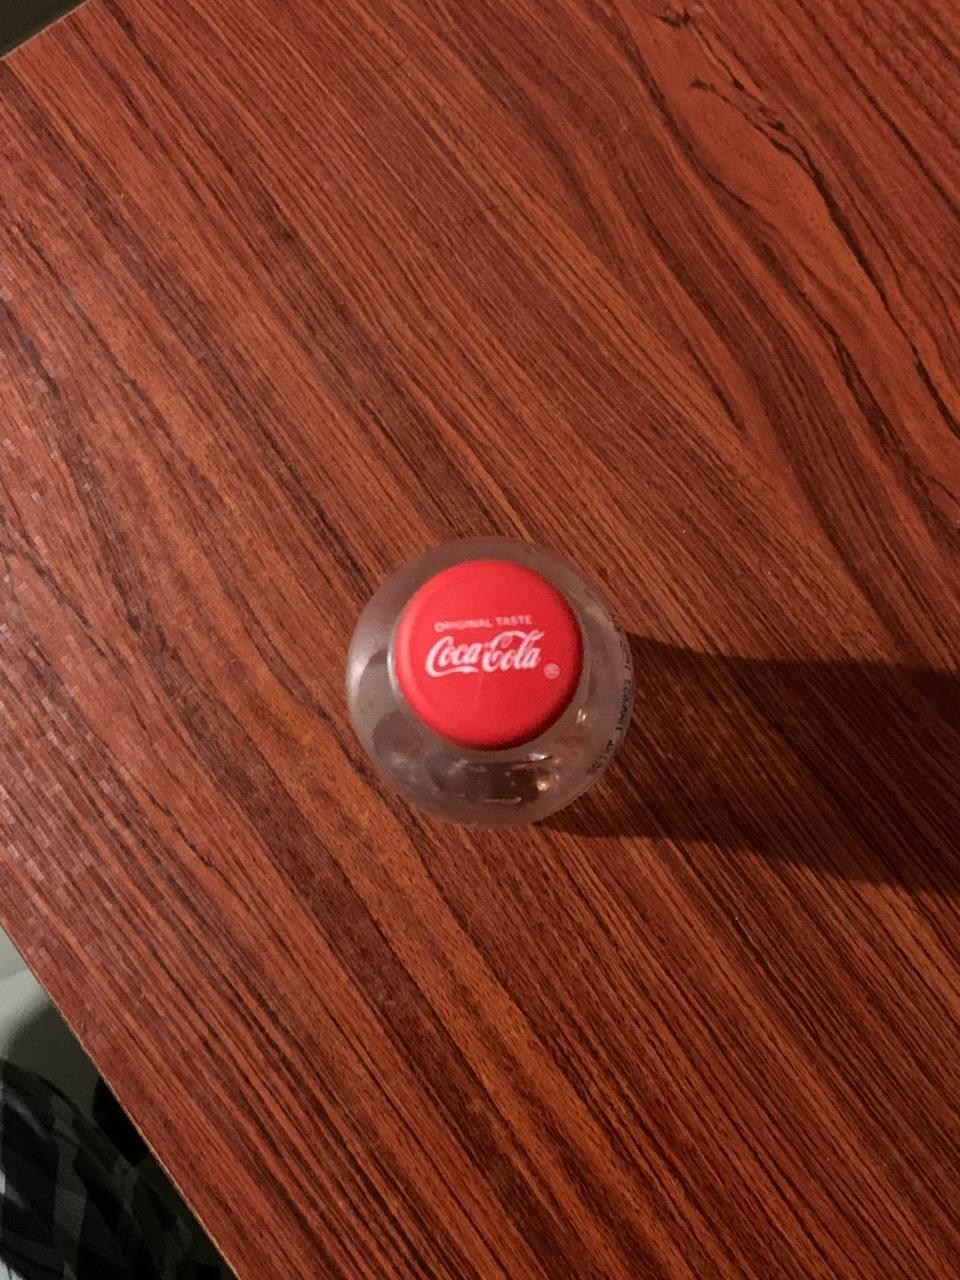plastic: (272, 495, 695, 883)
